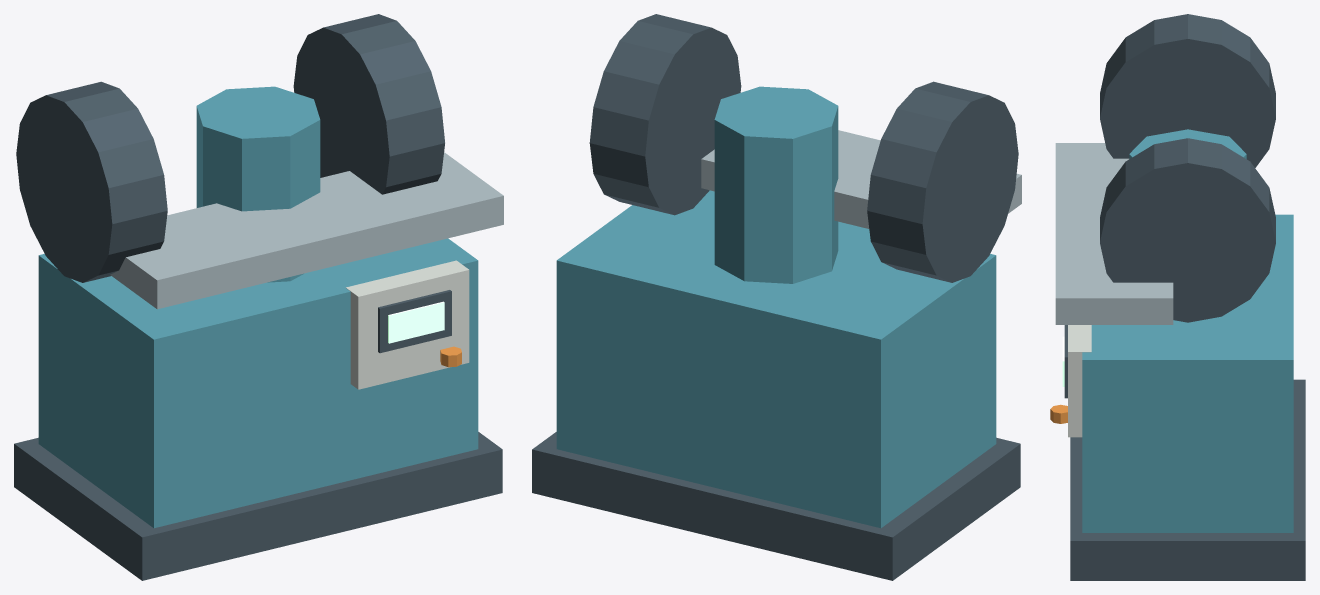
Rendered from twin-wheel-bench-grinder.glb.
3 renders of one model, left to right at view 1: azimuth 30°, elevation 25°; view 2: azimuth 150°, elevation 25°; view 3: azimuth 270°, elevation 25°, orthographic. The views are drawn at different scales.
Parts seen in each view (by area): view 1: blue, dark, steel, cream, light; view 2: blue, dark, steel; view 3: dark, blue, steel, cream.
Part boxes in pixels (x1,y1,x2,y2): blue: (38, 86, 478, 528); dark: (14, 14, 502, 580); steel: (110, 152, 503, 309); cream: (345, 260, 469, 389); light: (388, 301, 444, 343); blue: (556, 86, 996, 528); dark: (532, 14, 1020, 580); steel: (701, 130, 1021, 228); dark: (1064, 14, 1305, 580); blue: (1082, 129, 1293, 532); steel: (1055, 143, 1173, 324); cream: (1068, 325, 1091, 437).
Size of the model in its own units: 1.35 by 1.5 by 0.868.
